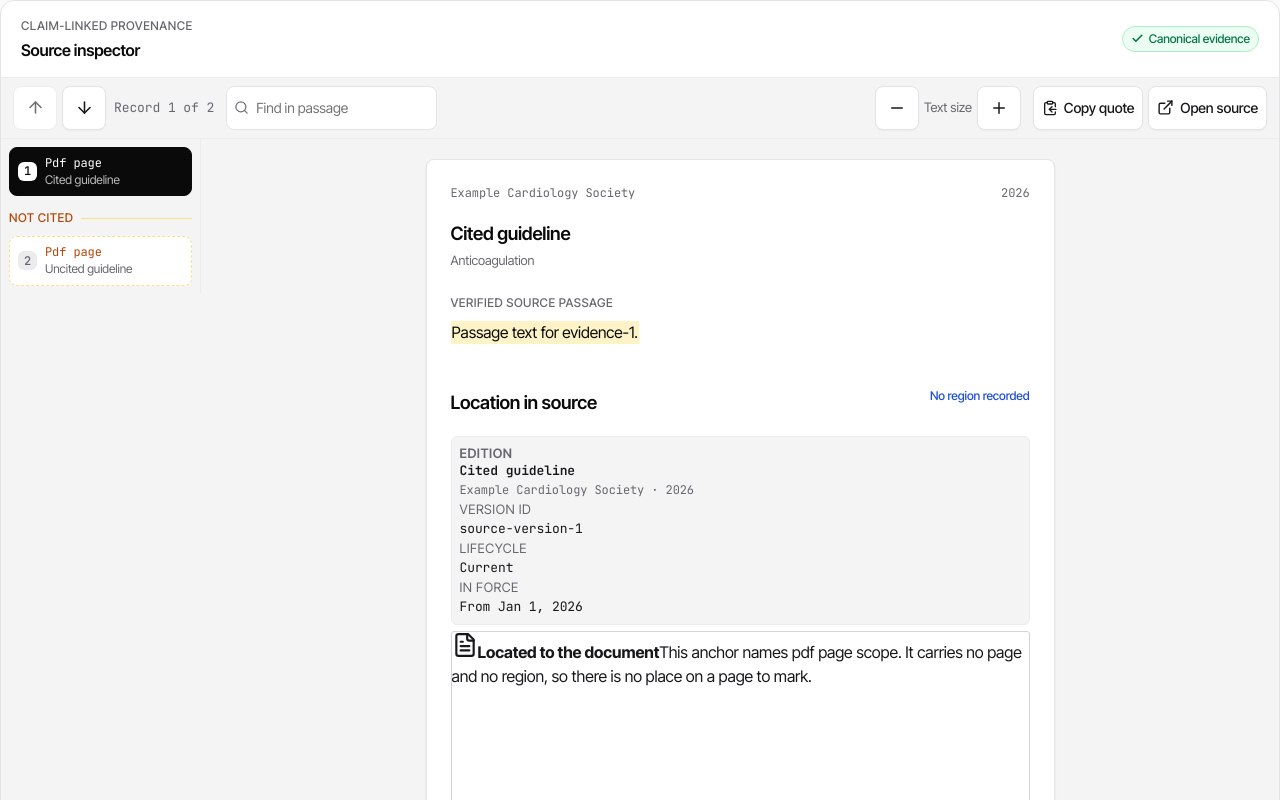
Test case: SourceViewer › returns from a ranked passage to the cited evidence
Click the button named "Next ranked result". click: point(84, 108)
box: [62, 86, 106, 130]
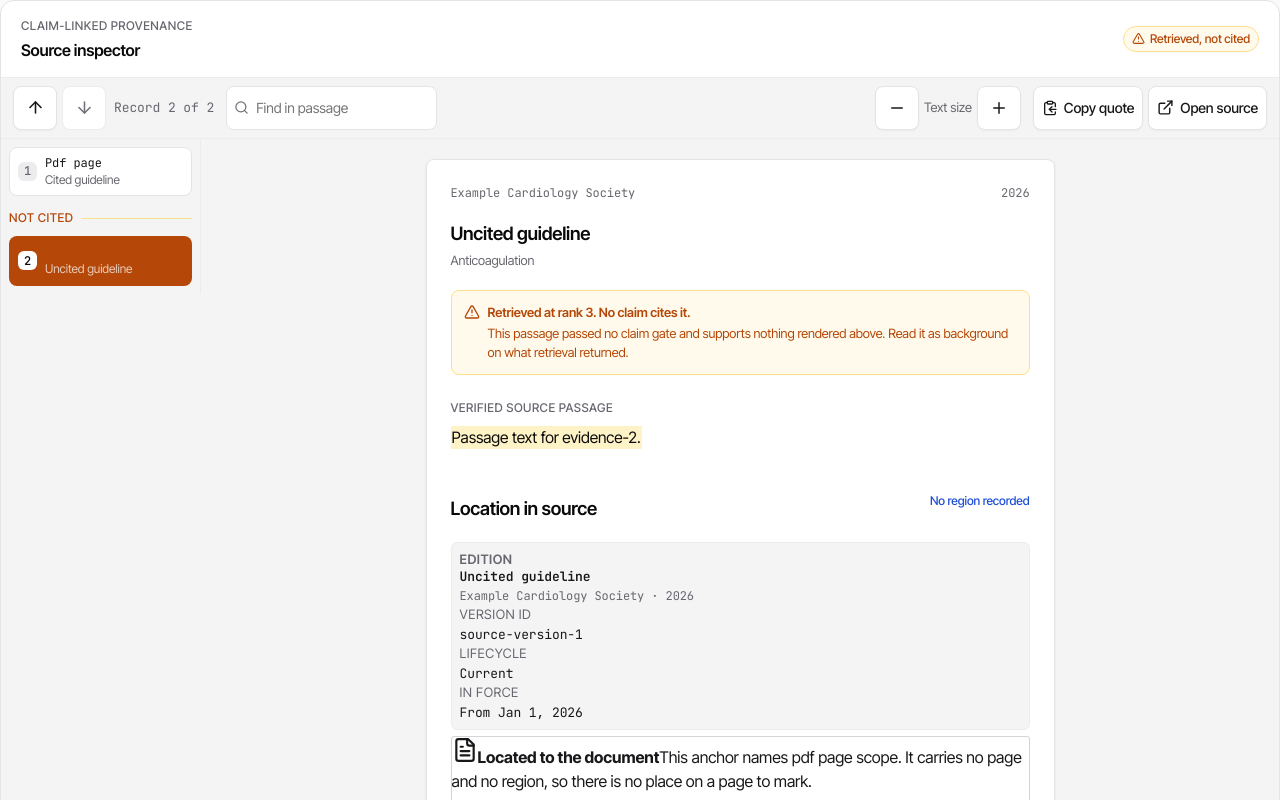
Click the button named "Previous ranked result". click: point(35, 108)
box: [13, 86, 57, 130]
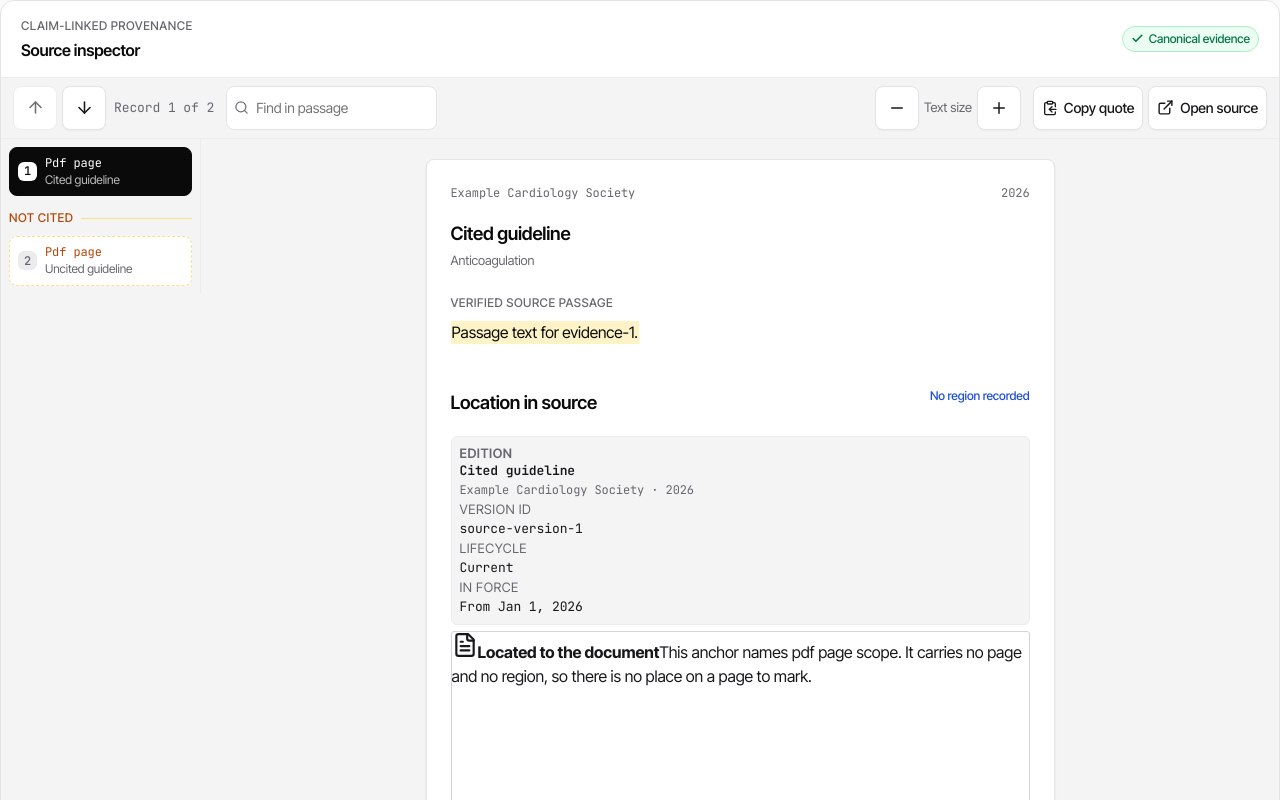
Now the text "Record 1 of 2" is shown, box [114, 98, 214, 118]
Now the text "Canonical evidence" is shown, box [1122, 26, 1259, 52]
